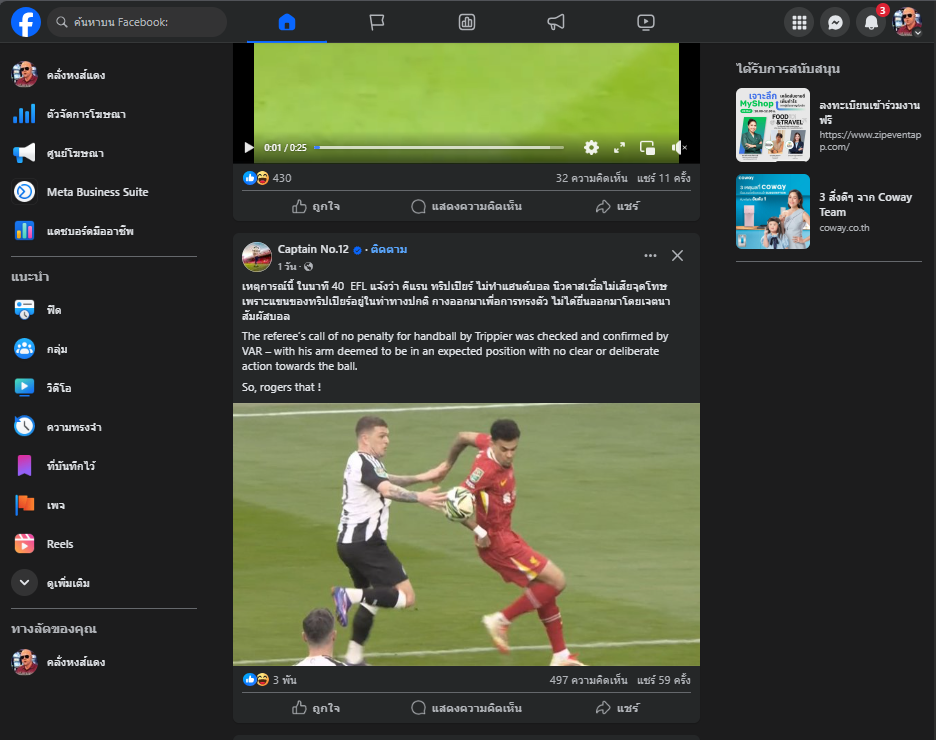topic: (235, 232, 699, 726), (231, 42, 700, 220)
